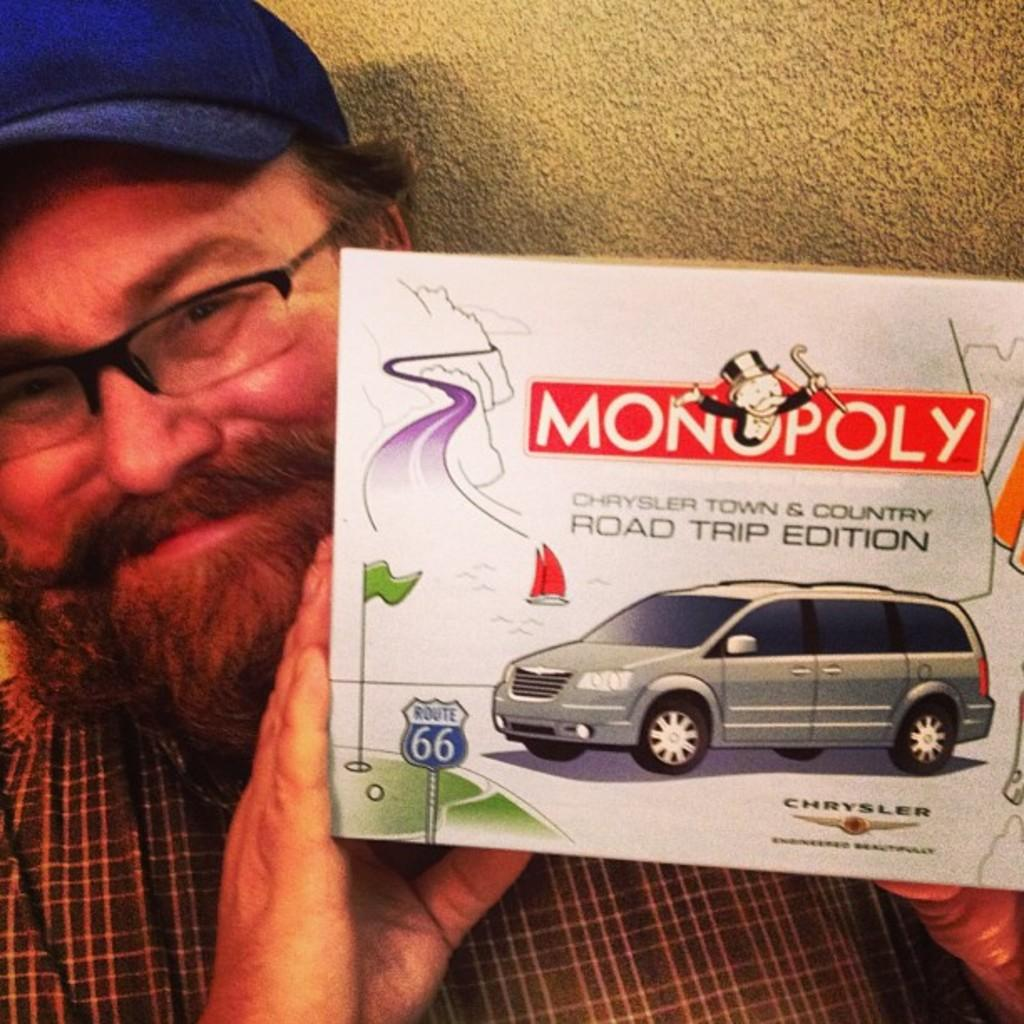Hat: (0, 0, 349, 168), (717, 348, 781, 398)
